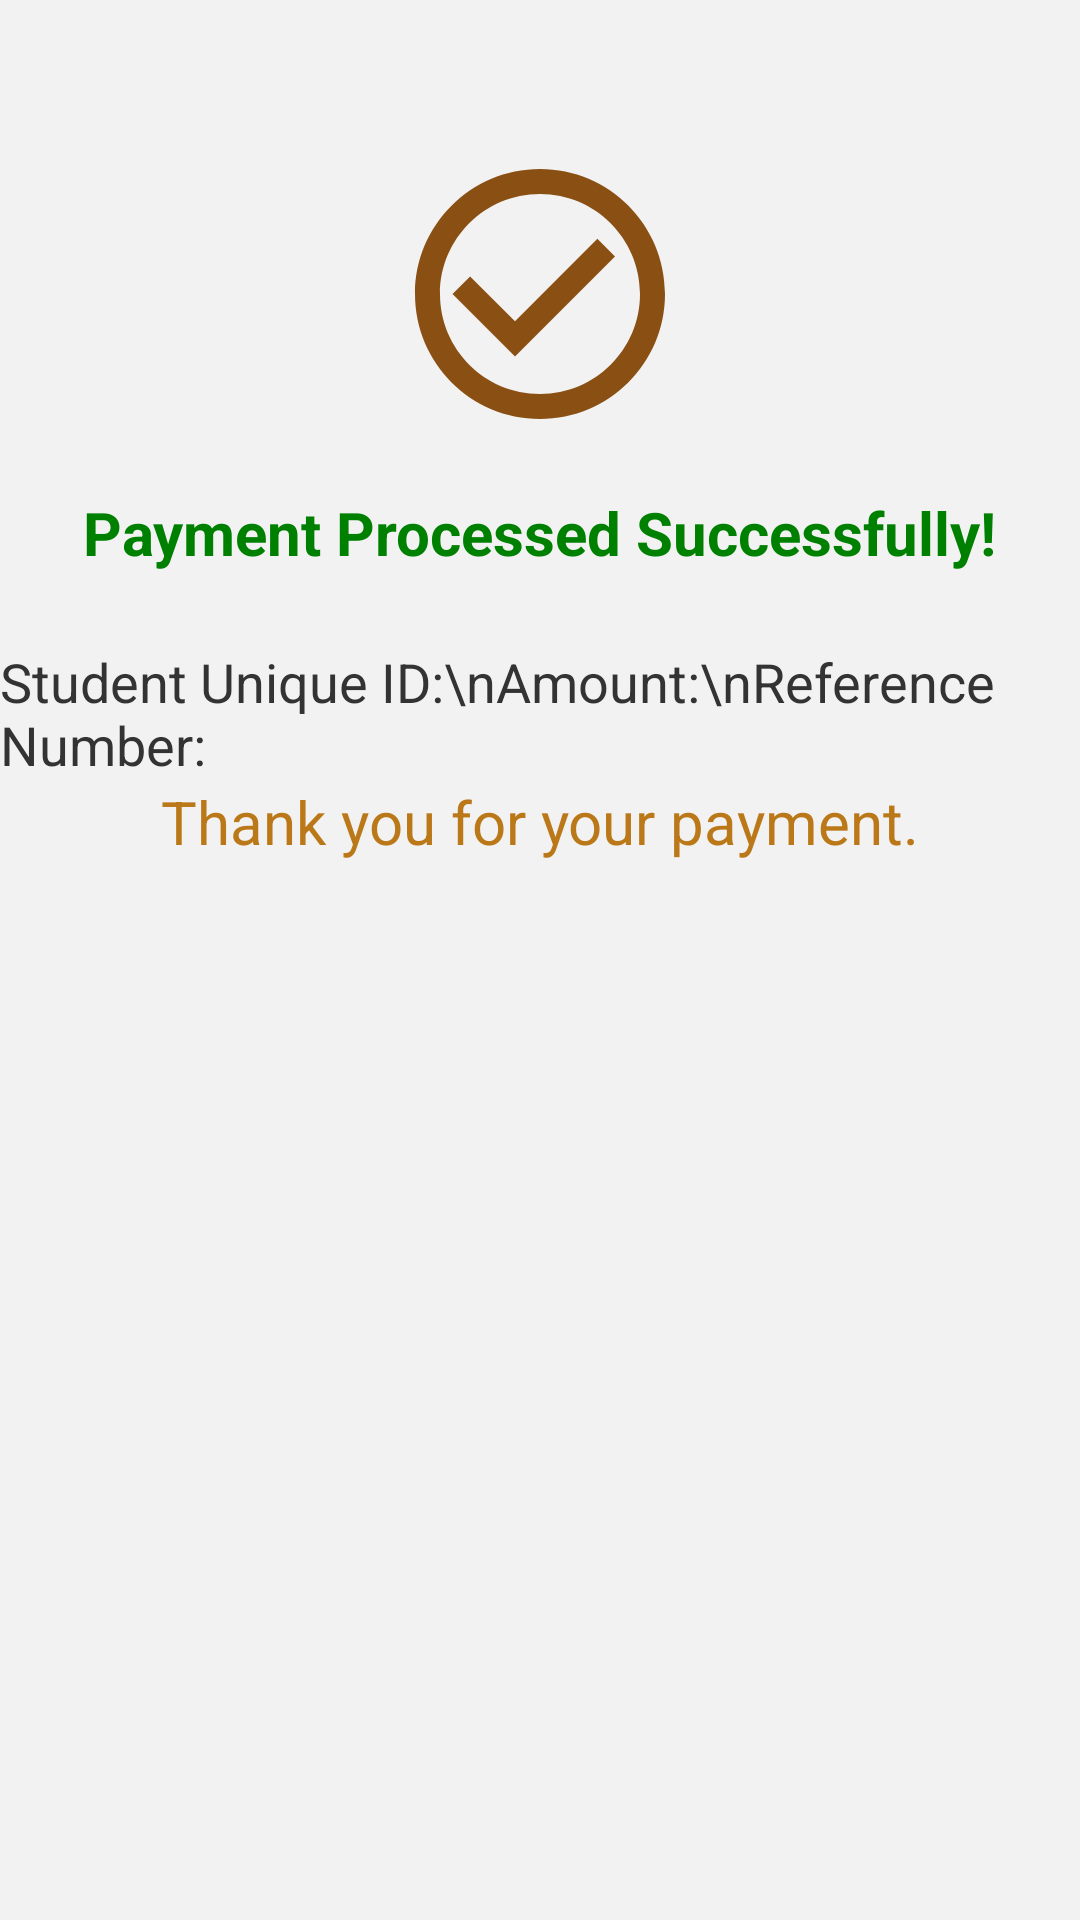

Where icons sit on this 1080 x 1920 app screen, as (x1, y1, x2, y2):
confirmation: (415, 169, 665, 419)
